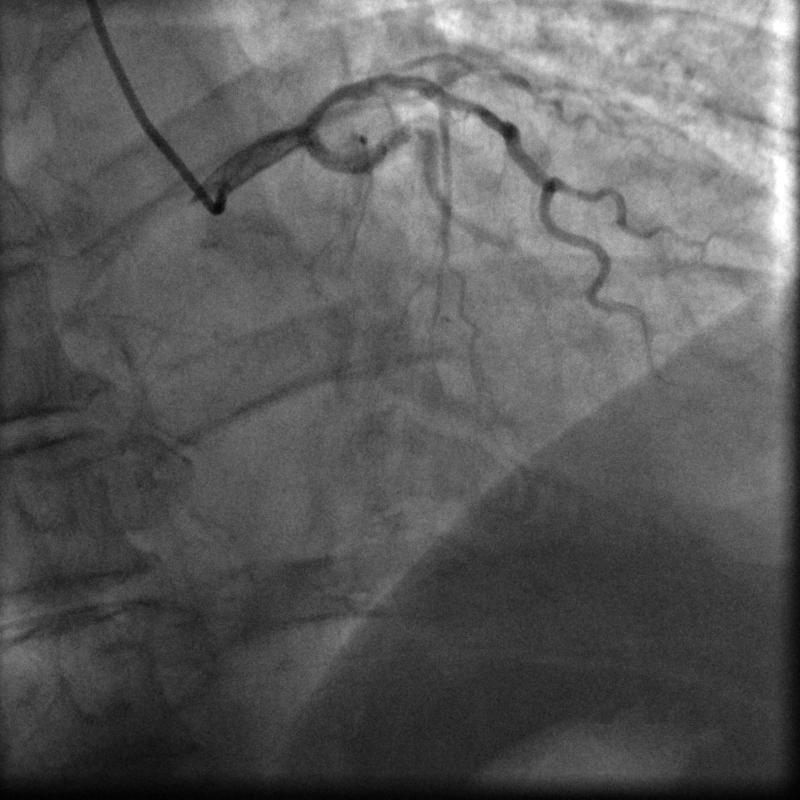Stenosis: (401, 117, 432, 146)
